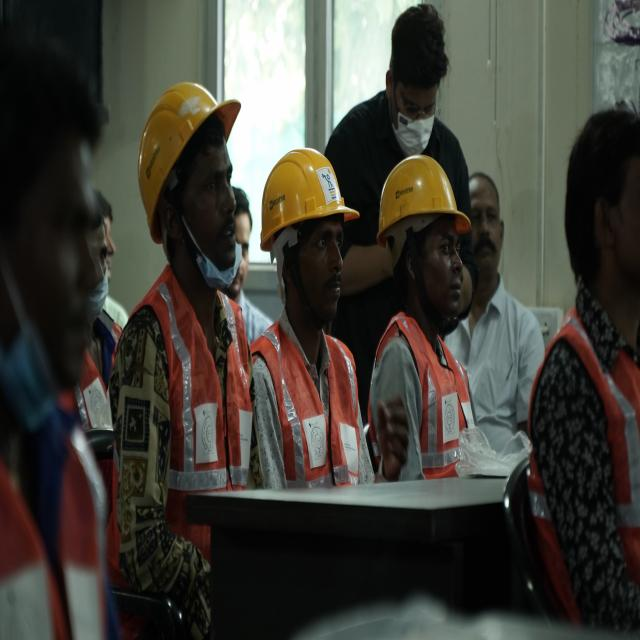Reflective-Jacket: (126, 256, 254, 598), (0, 293, 126, 640), (521, 284, 639, 638), (249, 316, 364, 493), (367, 306, 474, 482)
Safety-Helmet: (132, 73, 245, 240), (258, 140, 358, 252), (374, 149, 472, 248)
